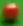red: (0, 0, 23, 26)
